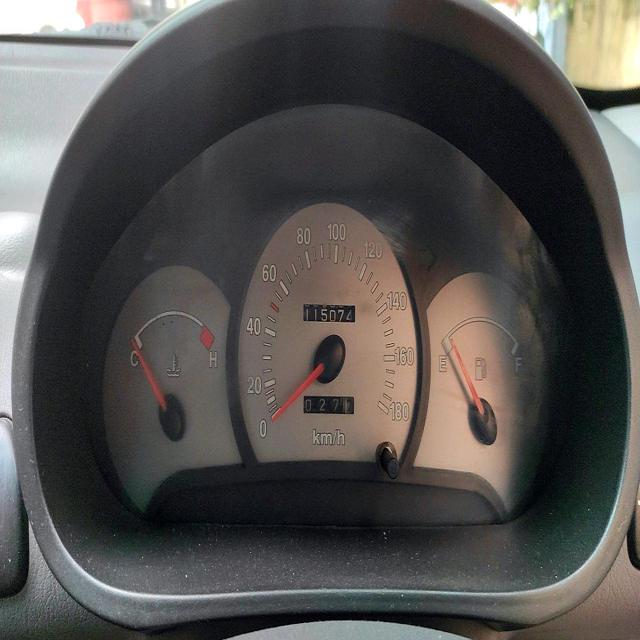odometer: (303, 302, 356, 324)
